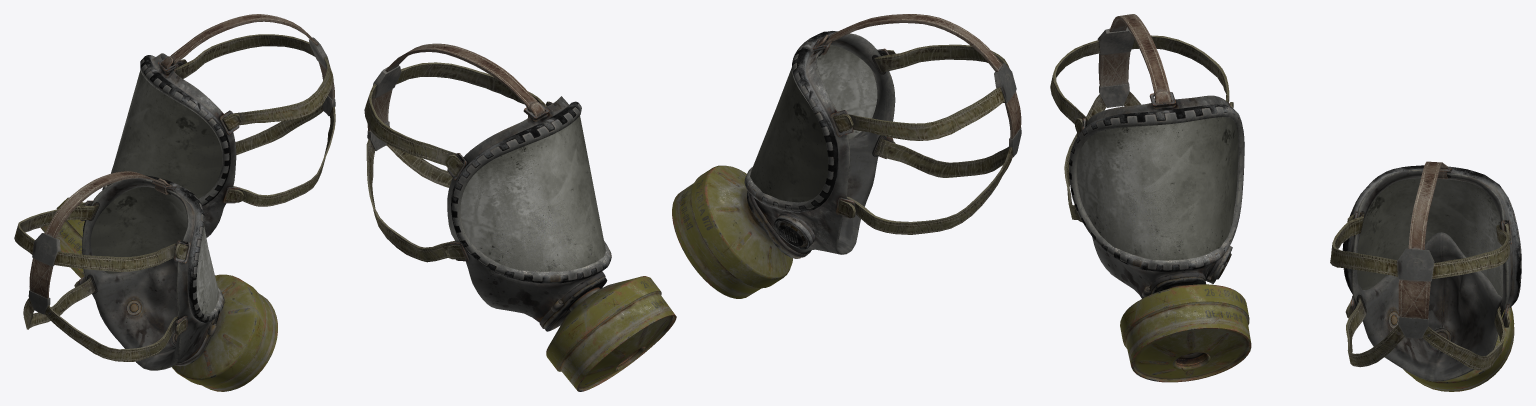
Rendered from metro gasmask render scene.fbx.
3 renders of one model, left to right at view 1: azimuth 30°, elevation 25°; view 2: azimuth 150°, elevation 25°; view 3: azimuth 270°, elevation 25°, orthographic. The views are drawn at different scales.
Visible parts, largest first — view 1: mesh_0, mesh_1, mesh_0.001, mesh_2.001, mesh_2, mesh_1.001; view 2: mesh_0, mesh_0.001, mesh_2.001, mesh_1, mesh_1.001, mesh_2; view 3: mesh_2, mesh_0, mesh_1.001, mesh_0.001, mesh_1, mesh_2.001.
Boxes of the visible parts, x1,y1,x2,y2 form: mesh_0: (14, 171, 277, 391); mesh_1: (82, 175, 224, 370); mesh_0.001: (41, 14, 335, 278); mesh_2.001: (107, 70, 222, 198); mesh_2: (90, 187, 218, 313); mesh_1.001: (102, 53, 236, 237); mesh_0: (672, 14, 1021, 298); mesh_0.001: (364, 43, 676, 391); mesh_2.001: (460, 116, 605, 271); mesh_1: (744, 31, 895, 258); mesh_1.001: (447, 96, 611, 331); mesh_2: (750, 44, 877, 202); mesh_2: (1077, 117, 1238, 260); mesh_0: (1050, 14, 1251, 382); mesh_1.001: (1342, 165, 1521, 381); mesh_0.001: (1330, 161, 1514, 391); mesh_1: (1069, 95, 1244, 298); mesh_2.001: (1357, 178, 1502, 297).
Bounding box in the file's own units: 626 × 355 × 526.
